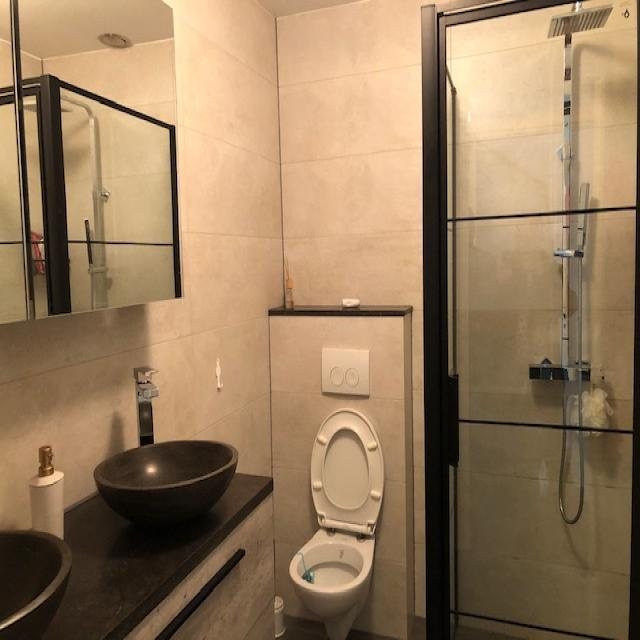douche: (418, 0, 640, 640)
toilet: (288, 342, 385, 640)
wastafel: (0, 364, 240, 640), (1, 478, 276, 640)
